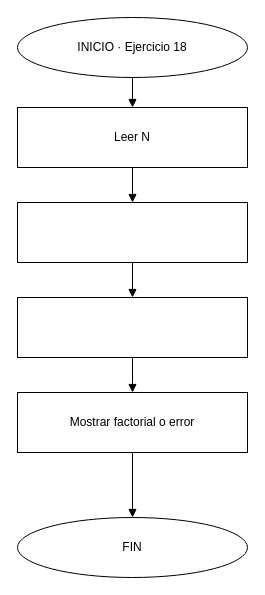
The diagram is 265 pixels wide and 595 high, and some of its shapes have lost their labels. Here are the shapes that lost their labels. From the top down, the centre of each, then its label:
At (132,232): "Validar el rango".
At (132,327): "Calcular factorial con un ciclo".
